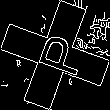P_W: (25, 29, 85, 81)
